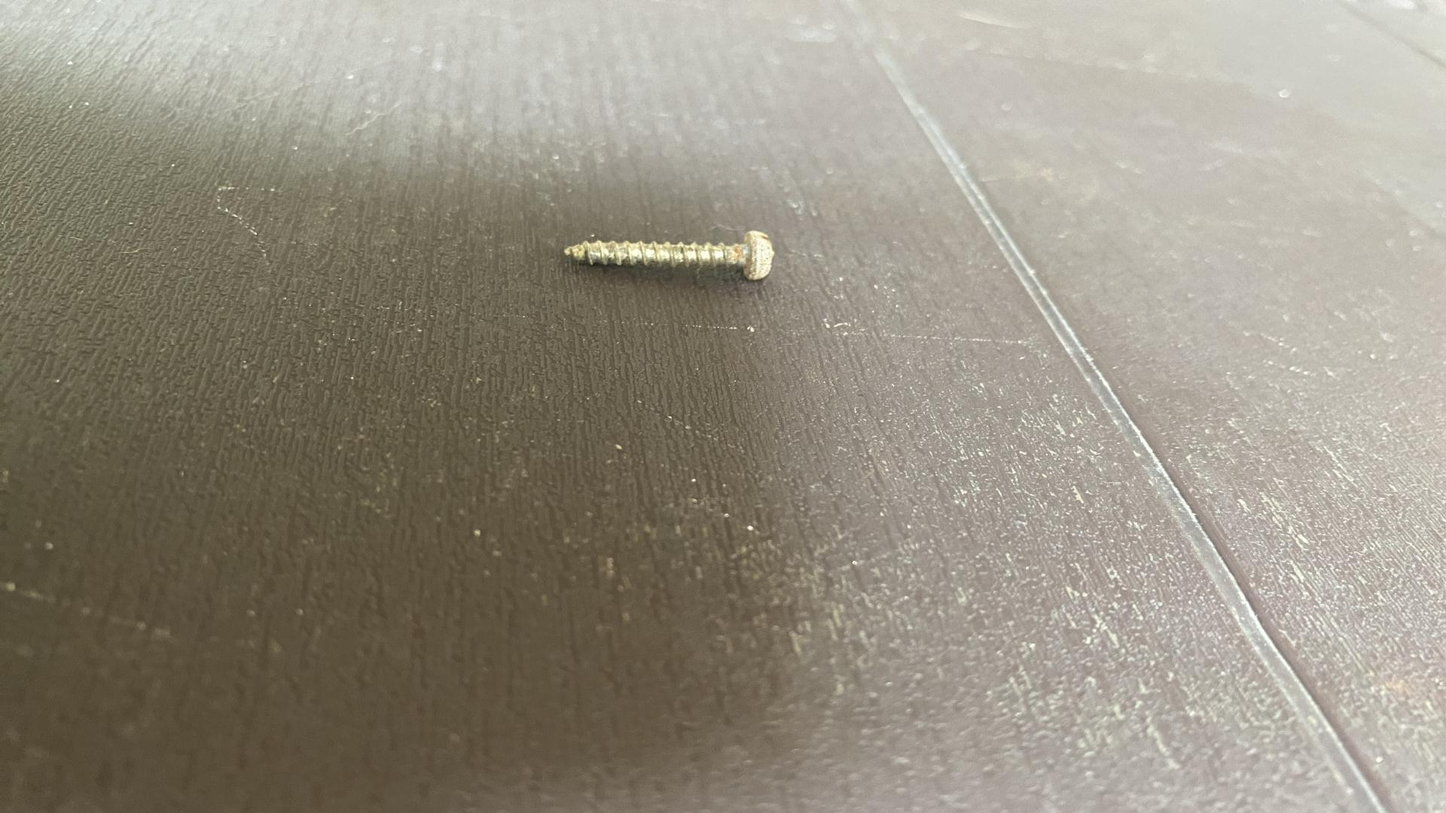screw: (531, 214, 805, 301)
